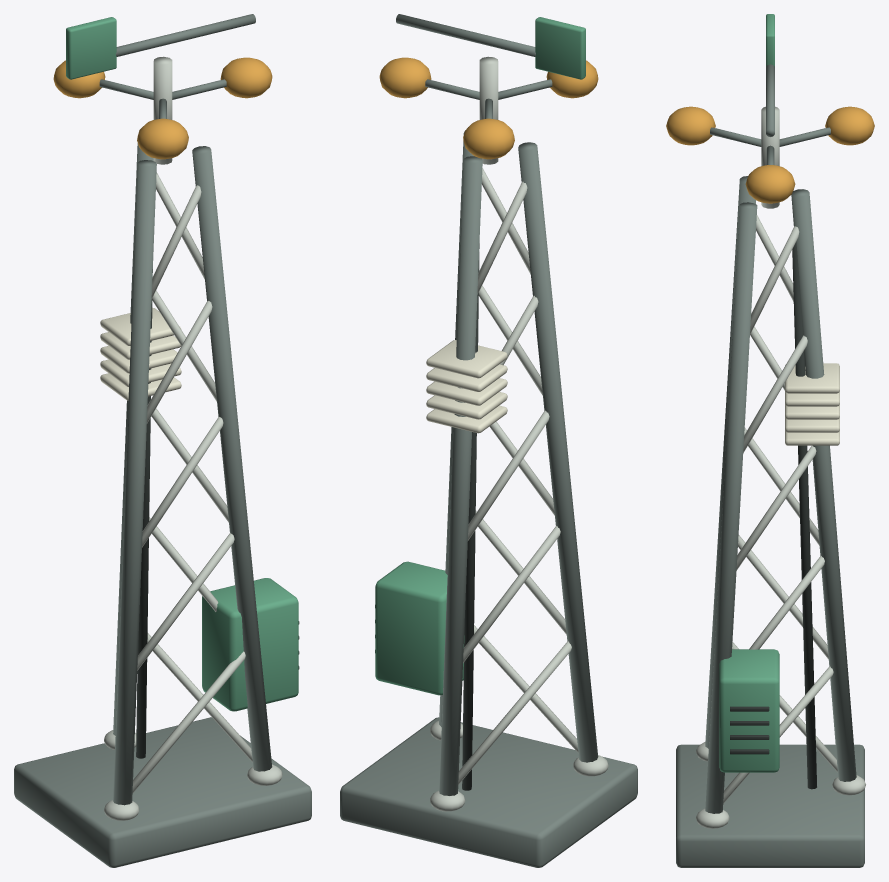
The model's file is weather_mast.glb.
The picture shows the model from 3 angles, left to right: view 1: azimuth 30°, elevation 25°; view 2: azimuth 150°, elevation 25°; view 3: azimuth 270°, elevation 25°; orthographic projection. The views are drawn at different scales.
Visible parts, largest first — view 1: Concrete foot; view 2: Concrete foot; view 3: Concrete foot.
Part boxes in pixels (box(x1,y1,x2,y2)): Concrete foot: box(14, 14, 311, 867); Concrete foot: box(340, 14, 637, 867); Concrete foot: box(666, 14, 874, 867).
Size of the model in its own units: 0.907 by 3.22 by 0.7962.
